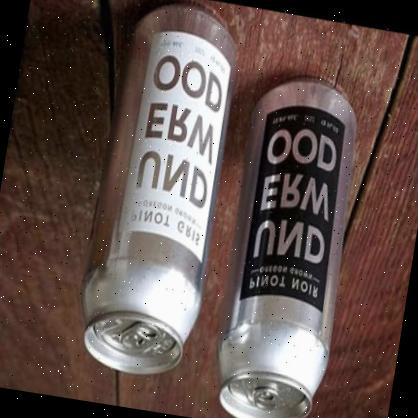can: (69, 0, 243, 383), (205, 66, 366, 418)
